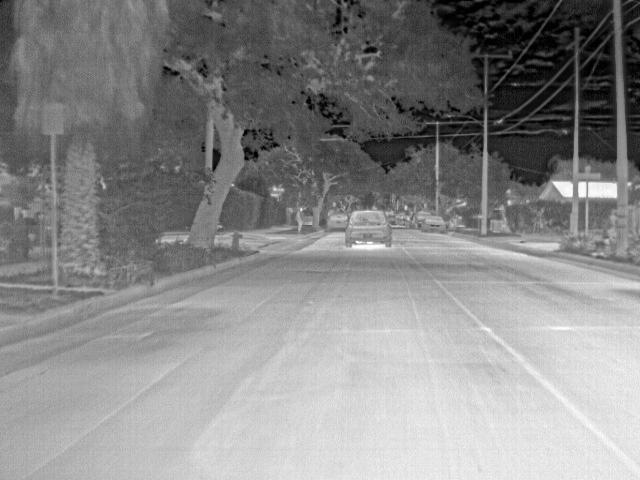car: (346, 208, 391, 249), (326, 213, 348, 232), (422, 216, 446, 232), (409, 210, 428, 230), (398, 212, 411, 225), (387, 213, 400, 225)
person: (296, 204, 306, 232)
